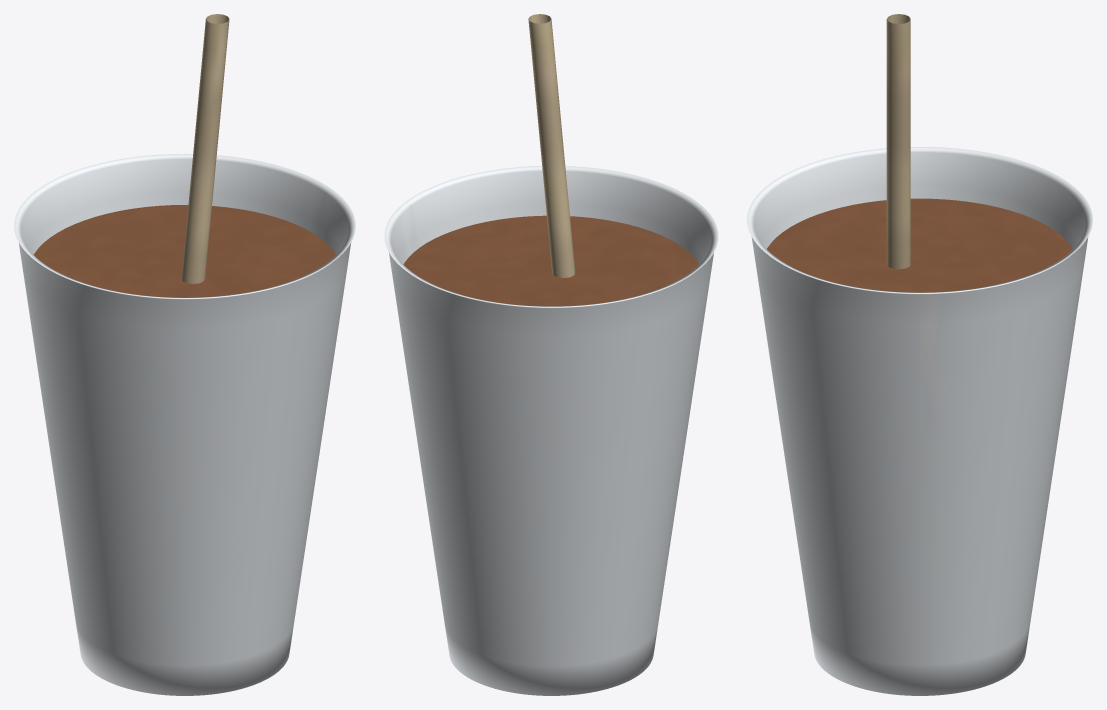
File: banana-cacao.glb
3 renders of one model, left to right at view 1: azimuth 30°, elevation 25°; view 2: azimuth 150°, elevation 25°; view 3: azimuth 270°, elevation 25°, orthographic. The views are drawn at different scales.
Parts seen in each view (by area): view 1: clear, gloss, satin; view 2: clear, gloss, satin; view 3: clear, gloss, satin.
Boxes of the visible parts, x1,y1,x2,y2 form: clear: (14, 153, 355, 695); gloss: (34, 205, 335, 297); satin: (181, 14, 229, 283); clear: (384, 166, 718, 695); gloss: (403, 215, 699, 306); satin: (528, 14, 575, 277); clear: (747, 147, 1092, 695); gloss: (767, 198, 1072, 292); satin: (886, 14, 910, 269).
Size of the model in its own units: 0.098 by 0.201 by 0.098.
Materials: 3 (3 with a texture image).
